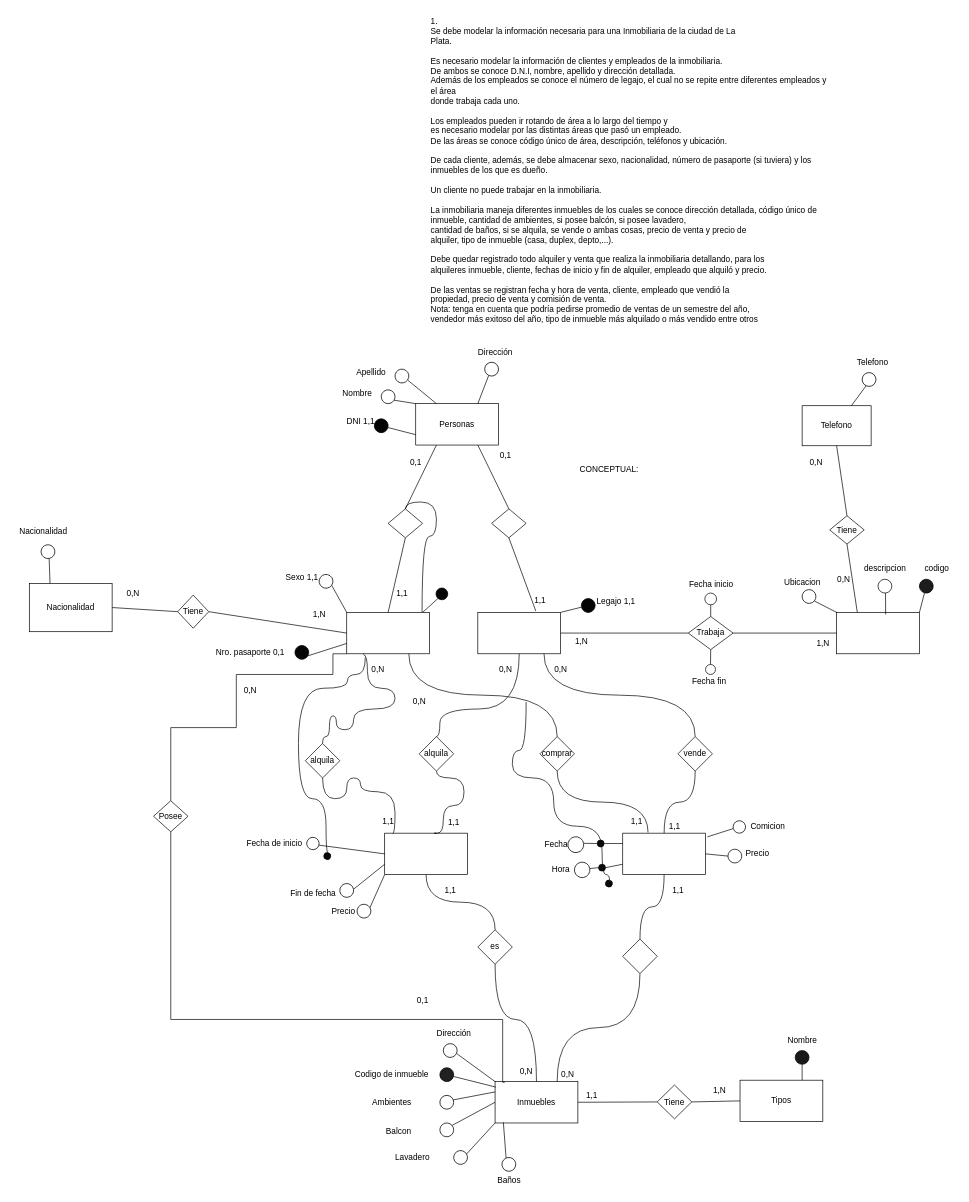
Some shapes in this 969 by 1202 pixel diagram are drawn without their labels. Here are the shapes that lost their labels. From the top down, the centre of each, then its label:
At (x=405, y=523): "EsUn".
At (x=508, y=523): "EsUn1".
At (x=388, y=633): "Clientes".
At (x=519, y=633): "Empleados".
At (x=877, y=633): "Areas".
At (x=425, y=853): "Alquieres".
At (x=664, y=853): "Ventas".
At (x=639, y=956): "es 2".
